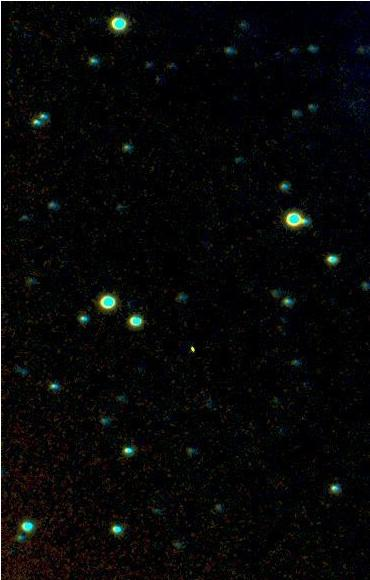star: (344, 35, 370, 65)
